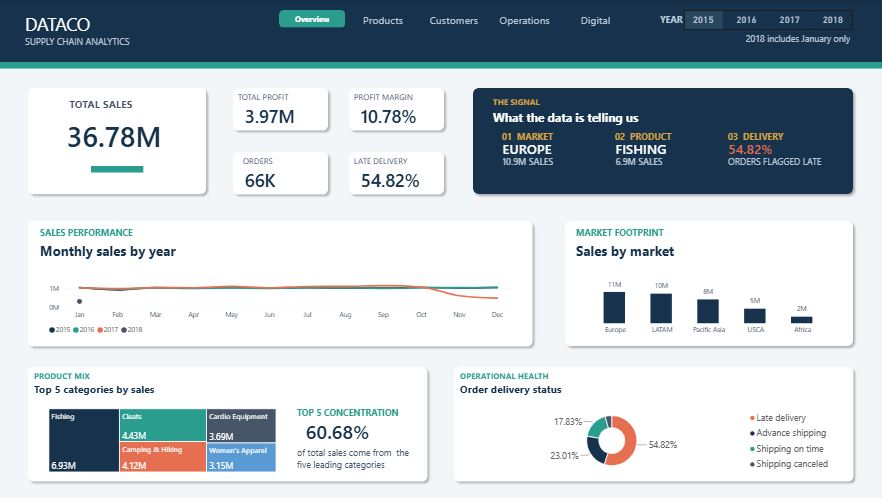

The page's visual inventory and layout, read from the dashboard file:
{"tool":"powerbi","page":{"name":"Overview","canvas":[1600,900],"ordinal":0},"visuals":[{"type":"shape","box":[0,0,1599.4,117.5],"z":0},{"type":"shape","box":[0,112,1599.4,12],"z":1000},{"type":"textbox","box":[48,22,500,65],"z":2000},{"type":"shape","box":[45.2,150,340,210],"z":3000},{"type":"textbox","box":[75,175,220,28],"z":4000},{"type":"cardVisual","fields":{"Data":["_Measures.Total Sales"]},"box":[72,207,275,72],"z":5000},{"type":"shape","box":[168,300,95,12],"z":6000},{"type":"shape","box":[415,150,190,95],"z":7000},{"type":"textbox","box":[433,165,150,22],"z":8000},{"type":"cardVisual","fields":{"Data":["_Measures.Total Profit"]},"box":[430,187,155,45],"z":9000},{"type":"shape","box":[625,150,190,95],"z":10000},{"type":"textbox","box":[643,165,150,22],"z":11000},{"type":"cardVisual","fields":{"Data":["_Measures.Profit Margin"]},"box":[640,187,155,45],"z":12000},{"type":"shape","box":[415,265,190,95],"z":13000},{"type":"textbox","box":[443,280,150,22],"z":14000},{"type":"cardVisual","fields":{"Data":["_Measures.Orders"]},"box":[430,302,155,45],"z":15000},{"type":"shape","box":[625,265,190,95],"z":16000},{"type":"textbox","box":[643,280,150,22],"z":17000},{"type":"cardVisual","fields":{"Data":["_Measures.Late Delivery Rate"]},"box":[640,302,155,45],"z":18000},{"type":"shape","box":[849.4,150,704.8,209.6],"z":19000},{"type":"textbox","box":[894.6,173.5,170,24],"z":20000},{"type":"textbox","box":[894.6,197,384.9,32.5],"z":21000},{"type":"textbox","box":[910.8,236.7,169.9,21],"z":22000},{"type":"textbox","box":[1115.1,236.7,169.9,21],"z":23000},{"type":"textbox","box":[1319.3,236.7,200.6,21.7],"z":24000},{"type":"shape","box":[45,390,930,245],"z":25000},{"type":"textbox","box":[75,410,220,22],"z":26000},{"type":"textbox","box":[75,437,380,32],"z":27000},{"type":"lineChart","title":"Monthly Sales by Year","fields":{"Category":["Dates.Year Hierarchy.Month_name","Dates.Year Hierarchy.Date"],"Series":["Dates.Year Hierarchy.Year"],"Y":["_Measures.Total Sales"]},"box":[75,480,870,145],"z":28000},{"type":"shape","box":[1015.7,390.4,538.6,244],"z":29000},{"type":"textbox","box":[1045,410,180,22],"z":30000},{"type":"textbox","box":[1045,437,260,32],"z":31000},{"type":"clusteredColumnChart","title":"Sales by Market","fields":{"Category":["OrderGeography.Market"],"Y":["_Measures.Total Sales"]},"box":[1044.6,480.7,480.7,144.6],"z":32000},{"type":"shape","box":[45,655,740,225],"z":33000},{"type":"shape","box":[815,655,740,225],"z":34000},{"type":"textbox","box":[65,669,200,21],"z":35000},{"type":"textbox","box":[65.1,691,300,25],"z":36000},{"type":"treemap","title":"Top 10 Categories by Sales","fields":{"Group":["Products.Category Name"],"Values":["_Measures.Total Sales"]},"box":[75.9,724.1,442.6,144.4],"z":37000},{"type":"textbox","box":[835,669,200,21],"z":38000},{"type":"textbox","box":[835,691,330,25],"z":39000},{"type":"donutChart","title":"Sales by Delivery Status","fields":{"Category":["Transactions.Delivery Status"],"Y":["_Measures.Orders"]},"box":[845,724,680,145],"z":40000},{"type":"textbox","box":[540,735,190,21],"z":41000},{"type":"cardVisual","fields":{"Data":["_Measures.Top 5 Category Share"]},"box":[540,755,170,48],"z":42000},{"type":"textbox","box":[540.7,807.4,218.5,44.4],"z":43000},{"type":"cardVisual","fields":{"Data":["_Measures.Top Market"]},"box":[910,257,170,24],"z":44000},{"type":"cardVisual","fields":{"Data":["_Measures.Top Market Sales Text"]},"box":[910,282,170,18],"z":45000},{"type":"cardVisual","fields":{"Data":["_Measures.Top Category"]},"box":[1115,257,170,24],"z":46000},{"type":"cardVisual","fields":{"Data":["_Measures.Top Category Sales Text"]},"box":[1115,282,170,18],"z":47000},{"type":"cardVisual","fields":{"Data":["_Measures.Late Delivery Rate"]},"box":[1320,257,190,24],"z":48000},{"type":"textbox","box":[1320,282,200,21],"z":49000},{"type":"pageNavigator","box":[507.8,18,632.5,32.5],"z":50000},{"type":"textbox","box":[1195,25,45,30],"z":51000},{"type":"advancedSlicerVisual","fields":{"Values":["Dates.Year"]},"box":[1240,18,305,36],"z":52000},{"type":"textbox","box":[1330,60,210,21],"z":53000}]}

Visuals, with their boxes in screenshot pixels (x1, y1, x2, y2), scaled from the page's 1600x900 canvas onto the 882x498 screenshot:
shape: l=0, t=0, r=881, b=65
shape: l=0, t=62, r=881, b=69
textbox: l=26, t=12, r=302, b=48
shape: l=25, t=83, r=212, b=199
textbox: l=41, t=97, r=163, b=112
cardVisual - _Measures.Total Sales: l=40, t=115, r=191, b=154
shape: l=93, t=166, r=145, b=173
shape: l=229, t=83, r=334, b=136
textbox: l=239, t=91, r=321, b=103
cardVisual - _Measures.Total Profit: l=237, t=103, r=322, b=128
shape: l=345, t=83, r=449, b=136
textbox: l=354, t=91, r=437, b=103
cardVisual - _Measures.Profit Margin: l=353, t=103, r=438, b=128
shape: l=229, t=147, r=334, b=199
textbox: l=244, t=155, r=327, b=167
cardVisual - _Measures.Orders: l=237, t=167, r=322, b=192
shape: l=345, t=147, r=449, b=199
textbox: l=354, t=155, r=437, b=167
cardVisual - _Measures.Late Delivery Rate: l=353, t=167, r=438, b=192
shape: l=468, t=83, r=857, b=199
textbox: l=493, t=96, r=587, b=109
textbox: l=493, t=109, r=705, b=127
textbox: l=502, t=131, r=596, b=143
textbox: l=615, t=131, r=708, b=143
textbox: l=727, t=131, r=838, b=143
shape: l=25, t=216, r=537, b=351
textbox: l=41, t=227, r=163, b=239
textbox: l=41, t=242, r=251, b=260
"Monthly Sales by Year" lineChart: l=41, t=266, r=521, b=346
shape: l=560, t=216, r=857, b=351
textbox: l=576, t=227, r=675, b=239
textbox: l=576, t=242, r=719, b=260
"Sales by Market" clusteredColumnChart: l=576, t=266, r=841, b=346
shape: l=25, t=362, r=433, b=487
shape: l=449, t=362, r=857, b=487
textbox: l=36, t=370, r=146, b=382
textbox: l=36, t=382, r=201, b=396
"Top 10 Categories by Sales" treemap: l=42, t=401, r=286, b=481
textbox: l=460, t=370, r=571, b=382
textbox: l=460, t=382, r=642, b=396
"Sales by Delivery Status" donutChart: l=466, t=401, r=841, b=481
textbox: l=298, t=407, r=402, b=418
cardVisual - _Measures.Top 5 Category Share: l=298, t=418, r=391, b=444
textbox: l=298, t=447, r=419, b=471
cardVisual - _Measures.Top Market: l=502, t=142, r=595, b=155
cardVisual - _Measures.Top Market Sales Text: l=502, t=156, r=595, b=166
cardVisual - _Measures.Top Category: l=615, t=142, r=708, b=155
cardVisual - _Measures.Top Category Sales Text: l=615, t=156, r=708, b=166
cardVisual - _Measures.Late Delivery Rate: l=728, t=142, r=832, b=155
textbox: l=728, t=156, r=838, b=168
pageNavigator: l=280, t=10, r=629, b=28
textbox: l=659, t=14, r=684, b=30
advancedSlicerVisual - Dates.Year: l=684, t=10, r=852, b=30
textbox: l=733, t=33, r=849, b=45
